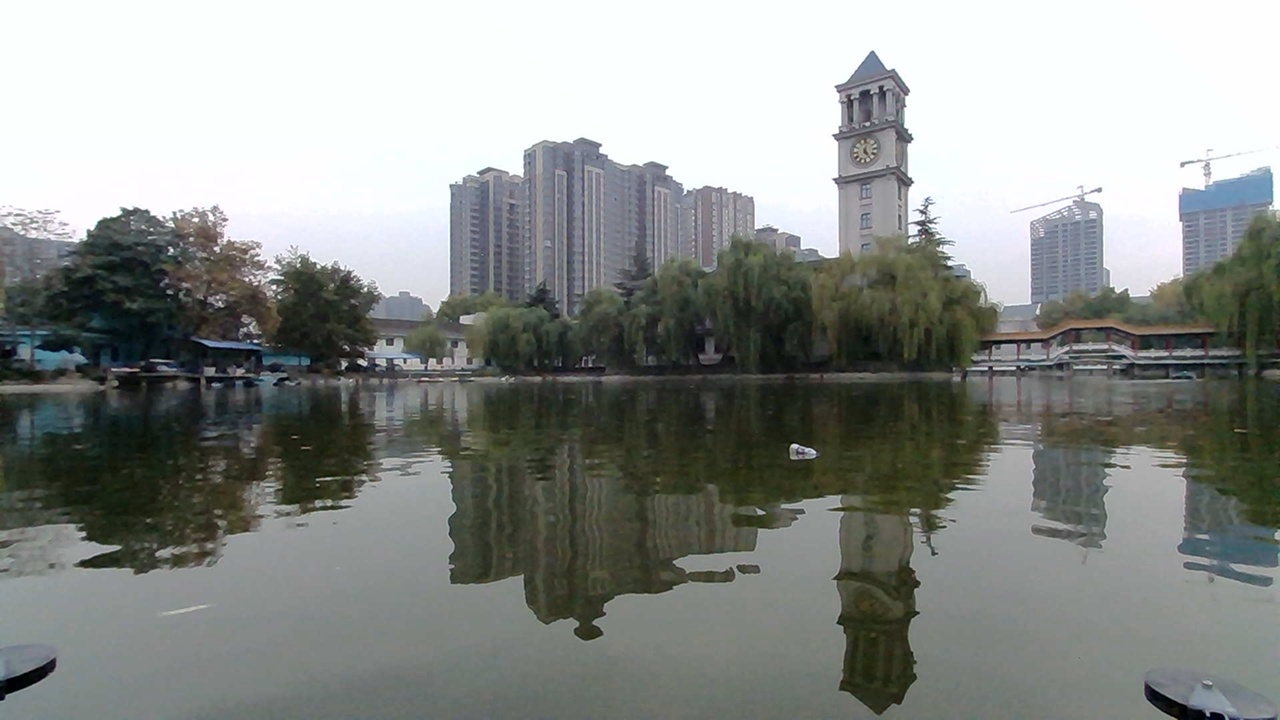bottle: (779, 433, 818, 463)
